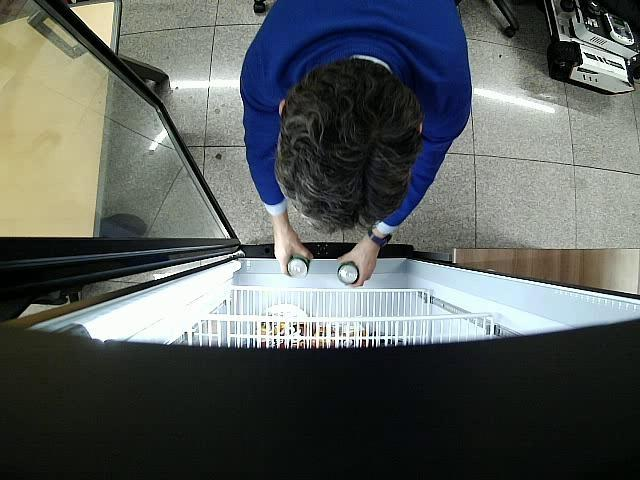12_chilsungCider: (287, 255, 310, 278), (338, 262, 360, 284)
